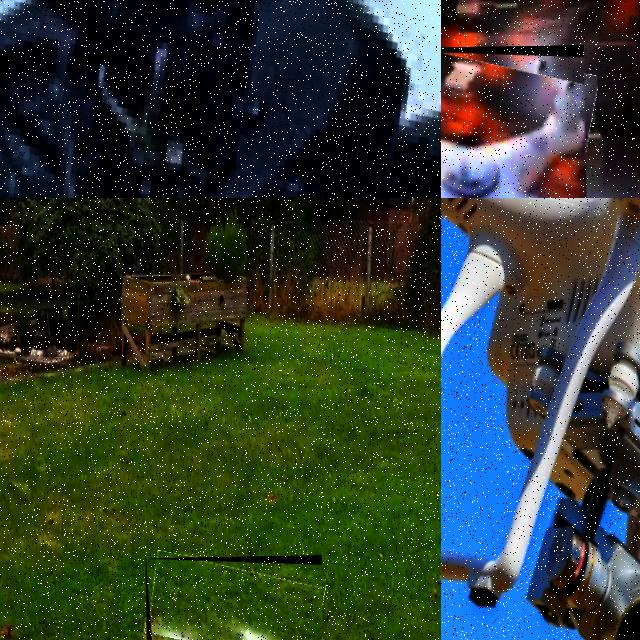0: (441, 44, 588, 198)
drone: (441, 198, 640, 640), (0, 0, 441, 198), (145, 555, 323, 640)
